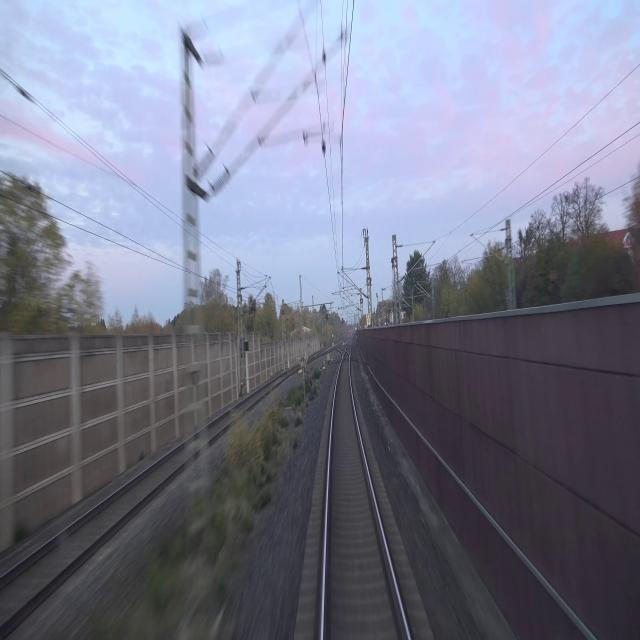rail-track: (0, 446, 184, 620), (324, 354, 406, 639), (205, 386, 268, 439)
